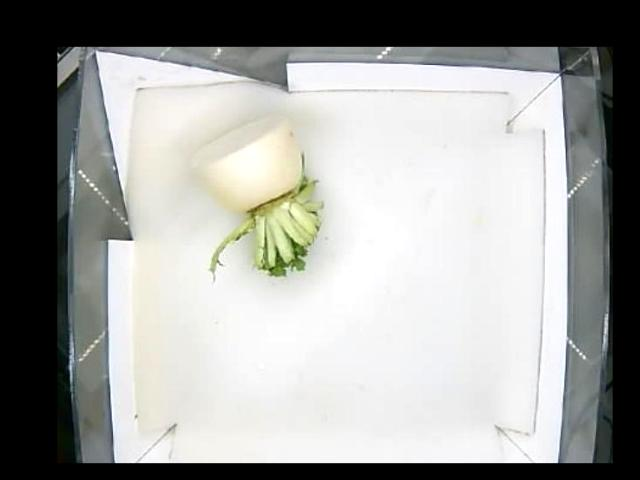Mooli: (197, 112, 321, 280)
